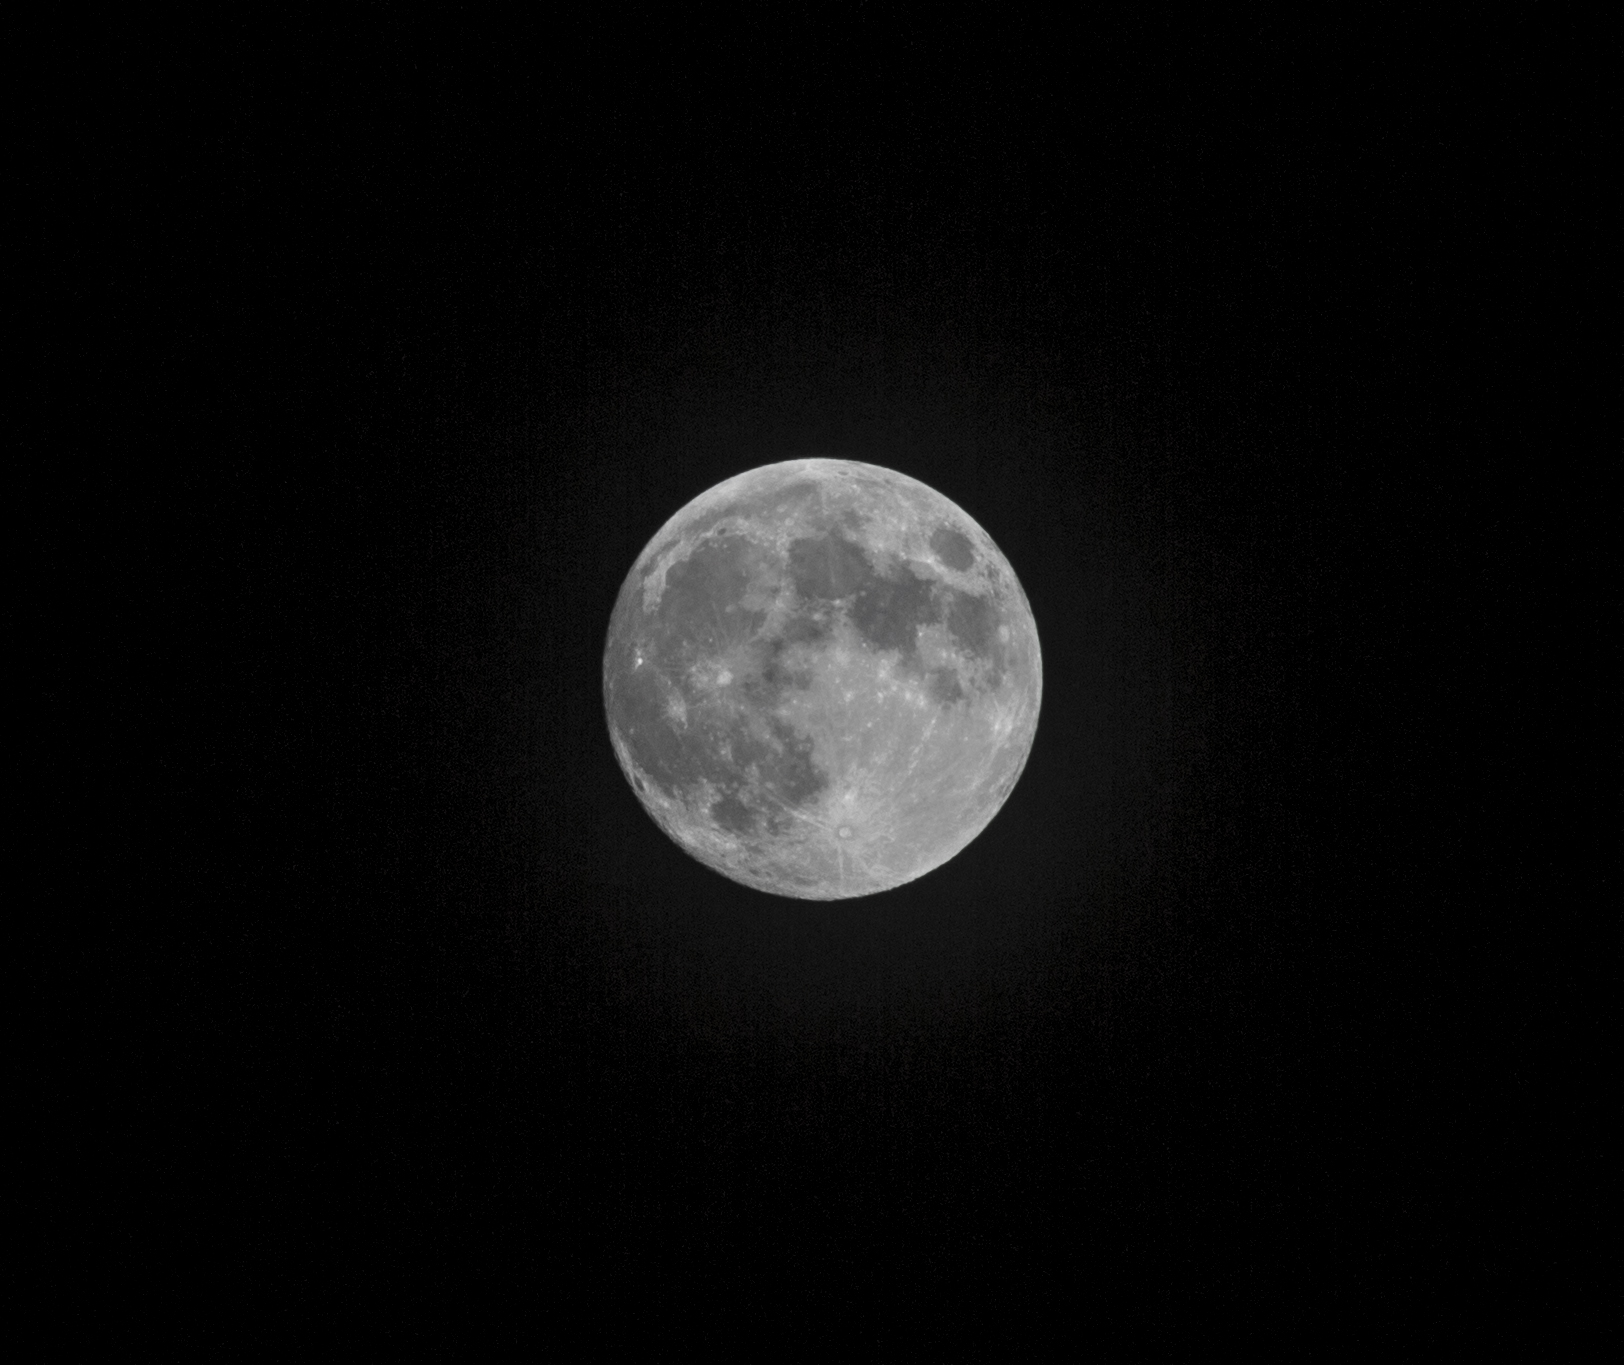crater: (628, 647, 651, 673), (857, 715, 876, 737), (838, 785, 856, 807), (624, 723, 643, 741), (658, 794, 675, 812), (1019, 617, 1032, 636), (962, 729, 973, 745)
